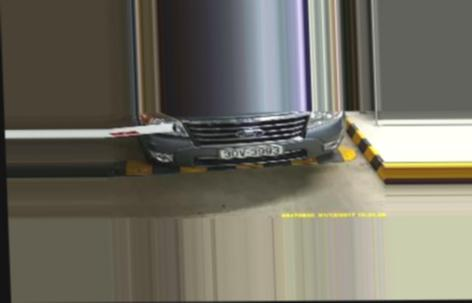License_Plate: (216, 146, 284, 157)
